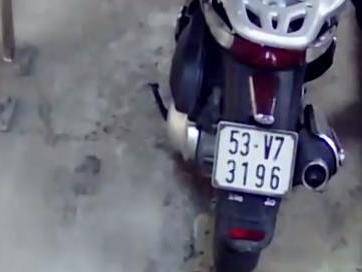num_plate: (212, 119, 302, 201)
